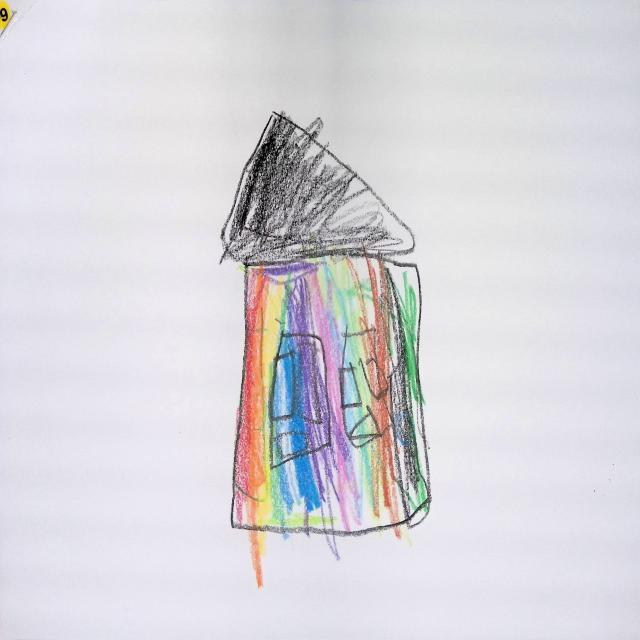house: (222, 112, 431, 538)
roof: (216, 112, 418, 266)
wall: (228, 253, 431, 535)
window: (265, 329, 331, 468), (337, 325, 396, 450)
